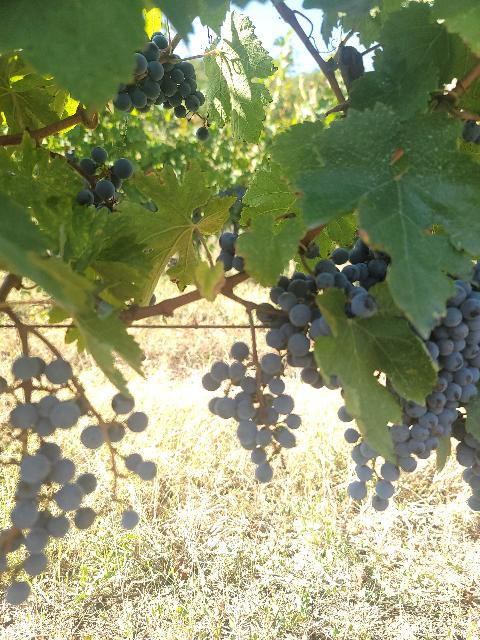grapes: (0, 355, 100, 605), (266, 238, 388, 386), (390, 280, 480, 455), (202, 342, 301, 482), (114, 32, 205, 119)
